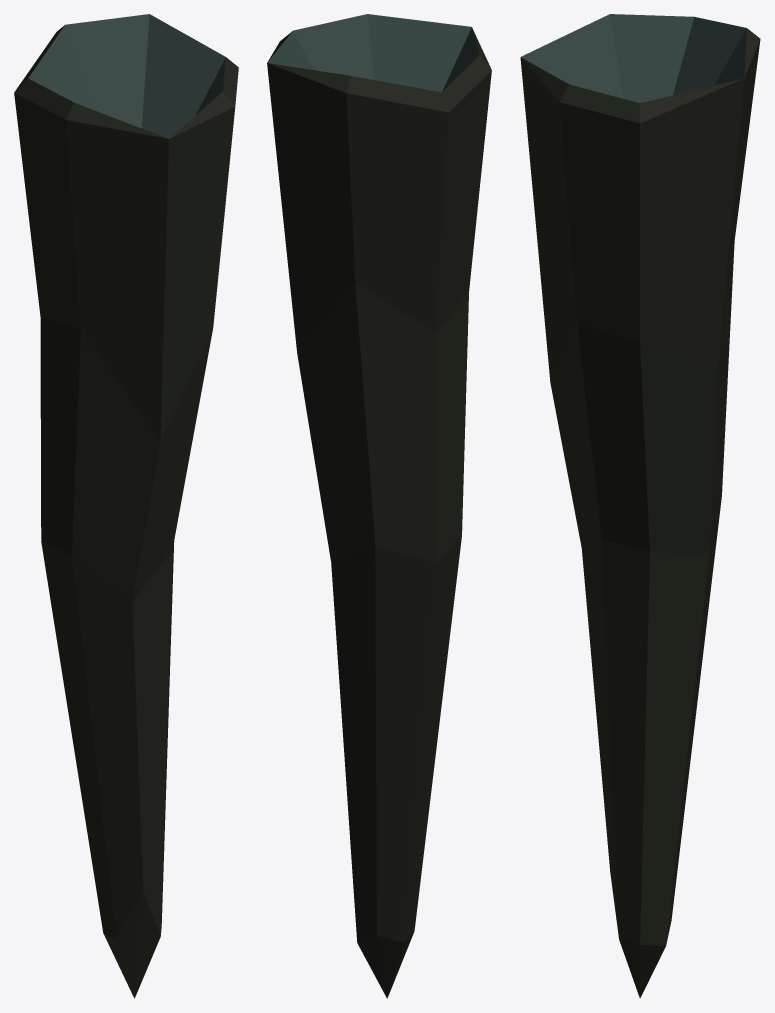
File: spine.gltf
3 views of the same model, side by side, from view 1: azimuth 30°, elevation 25°; view 2: azimuth 150°, elevation 25°; view 3: azimuth 270°, elevation 25° (orthographic). The views are drawn at different scales.
Visible parts, largest first — view 1: Cone; view 2: Cone; view 3: Cone.
Part boxes in pixels (box(x1,y1,x2,y2)): Cone: box(14, 14, 238, 998); Cone: box(267, 14, 491, 998); Cone: box(520, 14, 760, 998).
Size of the model in its own units: 0.3741 by 1.73 by 0.3903.
1 material, 1 textured.
